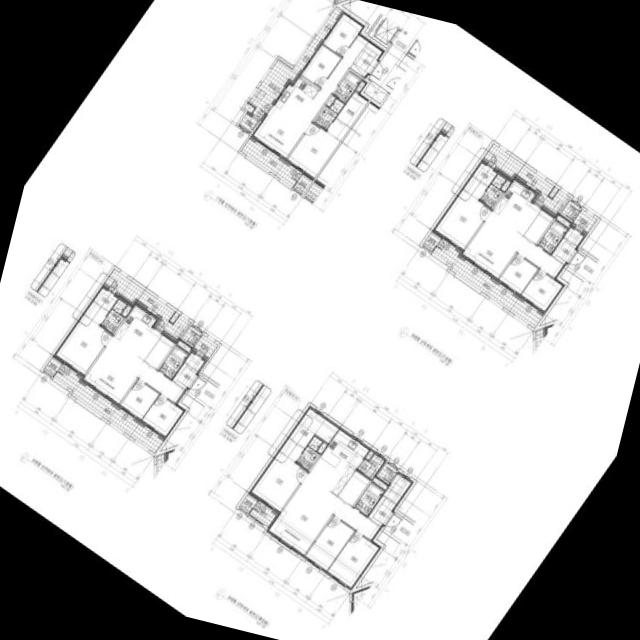background: (0, 0, 640, 640)
space_balconi: (247, 6, 341, 119), (432, 238, 542, 328), (53, 363, 163, 453), (483, 143, 570, 214), (104, 269, 191, 339), (240, 138, 301, 187), (274, 76, 319, 121), (249, 500, 275, 527), (357, 454, 384, 480), (193, 334, 217, 358), (572, 209, 596, 233)
space_bedroom: (433, 188, 490, 249), (250, 451, 307, 511), (54, 314, 111, 374), (286, 123, 339, 180), (327, 531, 379, 588), (305, 516, 354, 571), (321, 11, 363, 57), (141, 394, 184, 437), (521, 269, 563, 312), (299, 44, 340, 88), (499, 254, 538, 294), (120, 379, 158, 419), (317, 442, 327, 453)
space_dressroom: (278, 407, 338, 461), (82, 287, 117, 324), (462, 162, 496, 199), (336, 92, 368, 127), (326, 118, 349, 140)
space_elevator: (368, 15, 400, 48)
space_elevator_hall: (368, 29, 416, 87), (186, 375, 217, 407), (565, 250, 596, 281), (382, 512, 413, 543)
space_front: (367, 496, 395, 527), (349, 50, 379, 78), (550, 237, 576, 265), (171, 363, 197, 390)
space_kitchen: (307, 429, 368, 495), (490, 180, 540, 236), (111, 305, 161, 361)
space_living_room: (250, 33, 368, 160), (268, 475, 381, 555), (83, 339, 185, 404), (462, 214, 564, 279)
space_other: (144, 333, 175, 369), (523, 208, 554, 244), (338, 471, 369, 506), (383, 474, 412, 504), (363, 78, 390, 104), (363, 40, 384, 59), (184, 352, 205, 371), (377, 463, 396, 483), (238, 113, 258, 132), (564, 227, 584, 246), (561, 201, 580, 220), (182, 326, 201, 345), (372, 477, 387, 490), (556, 215, 570, 228), (176, 340, 190, 353), (355, 79, 367, 92), (243, 103, 254, 113), (500, 180, 510, 191), (121, 305, 131, 316), (169, 312, 179, 323), (548, 187, 558, 198), (326, 95, 335, 106), (365, 450, 373, 460)
space_outdoor_room: (293, 174, 311, 194), (239, 494, 257, 513), (43, 357, 61, 376), (422, 232, 440, 251)
space_toilet: (537, 220, 568, 254), (354, 482, 384, 516), (158, 345, 188, 379), (314, 98, 344, 130), (333, 71, 361, 103), (479, 174, 505, 208), (100, 299, 126, 333), (296, 436, 322, 470)
